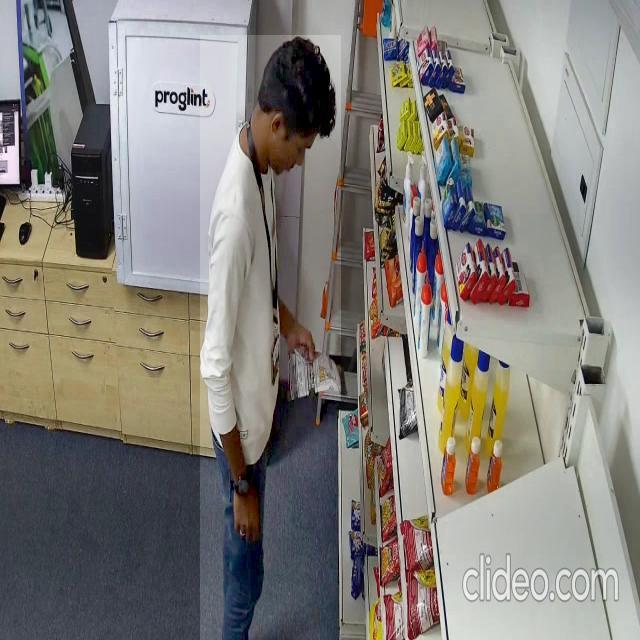normal: (200, 35, 341, 640)
